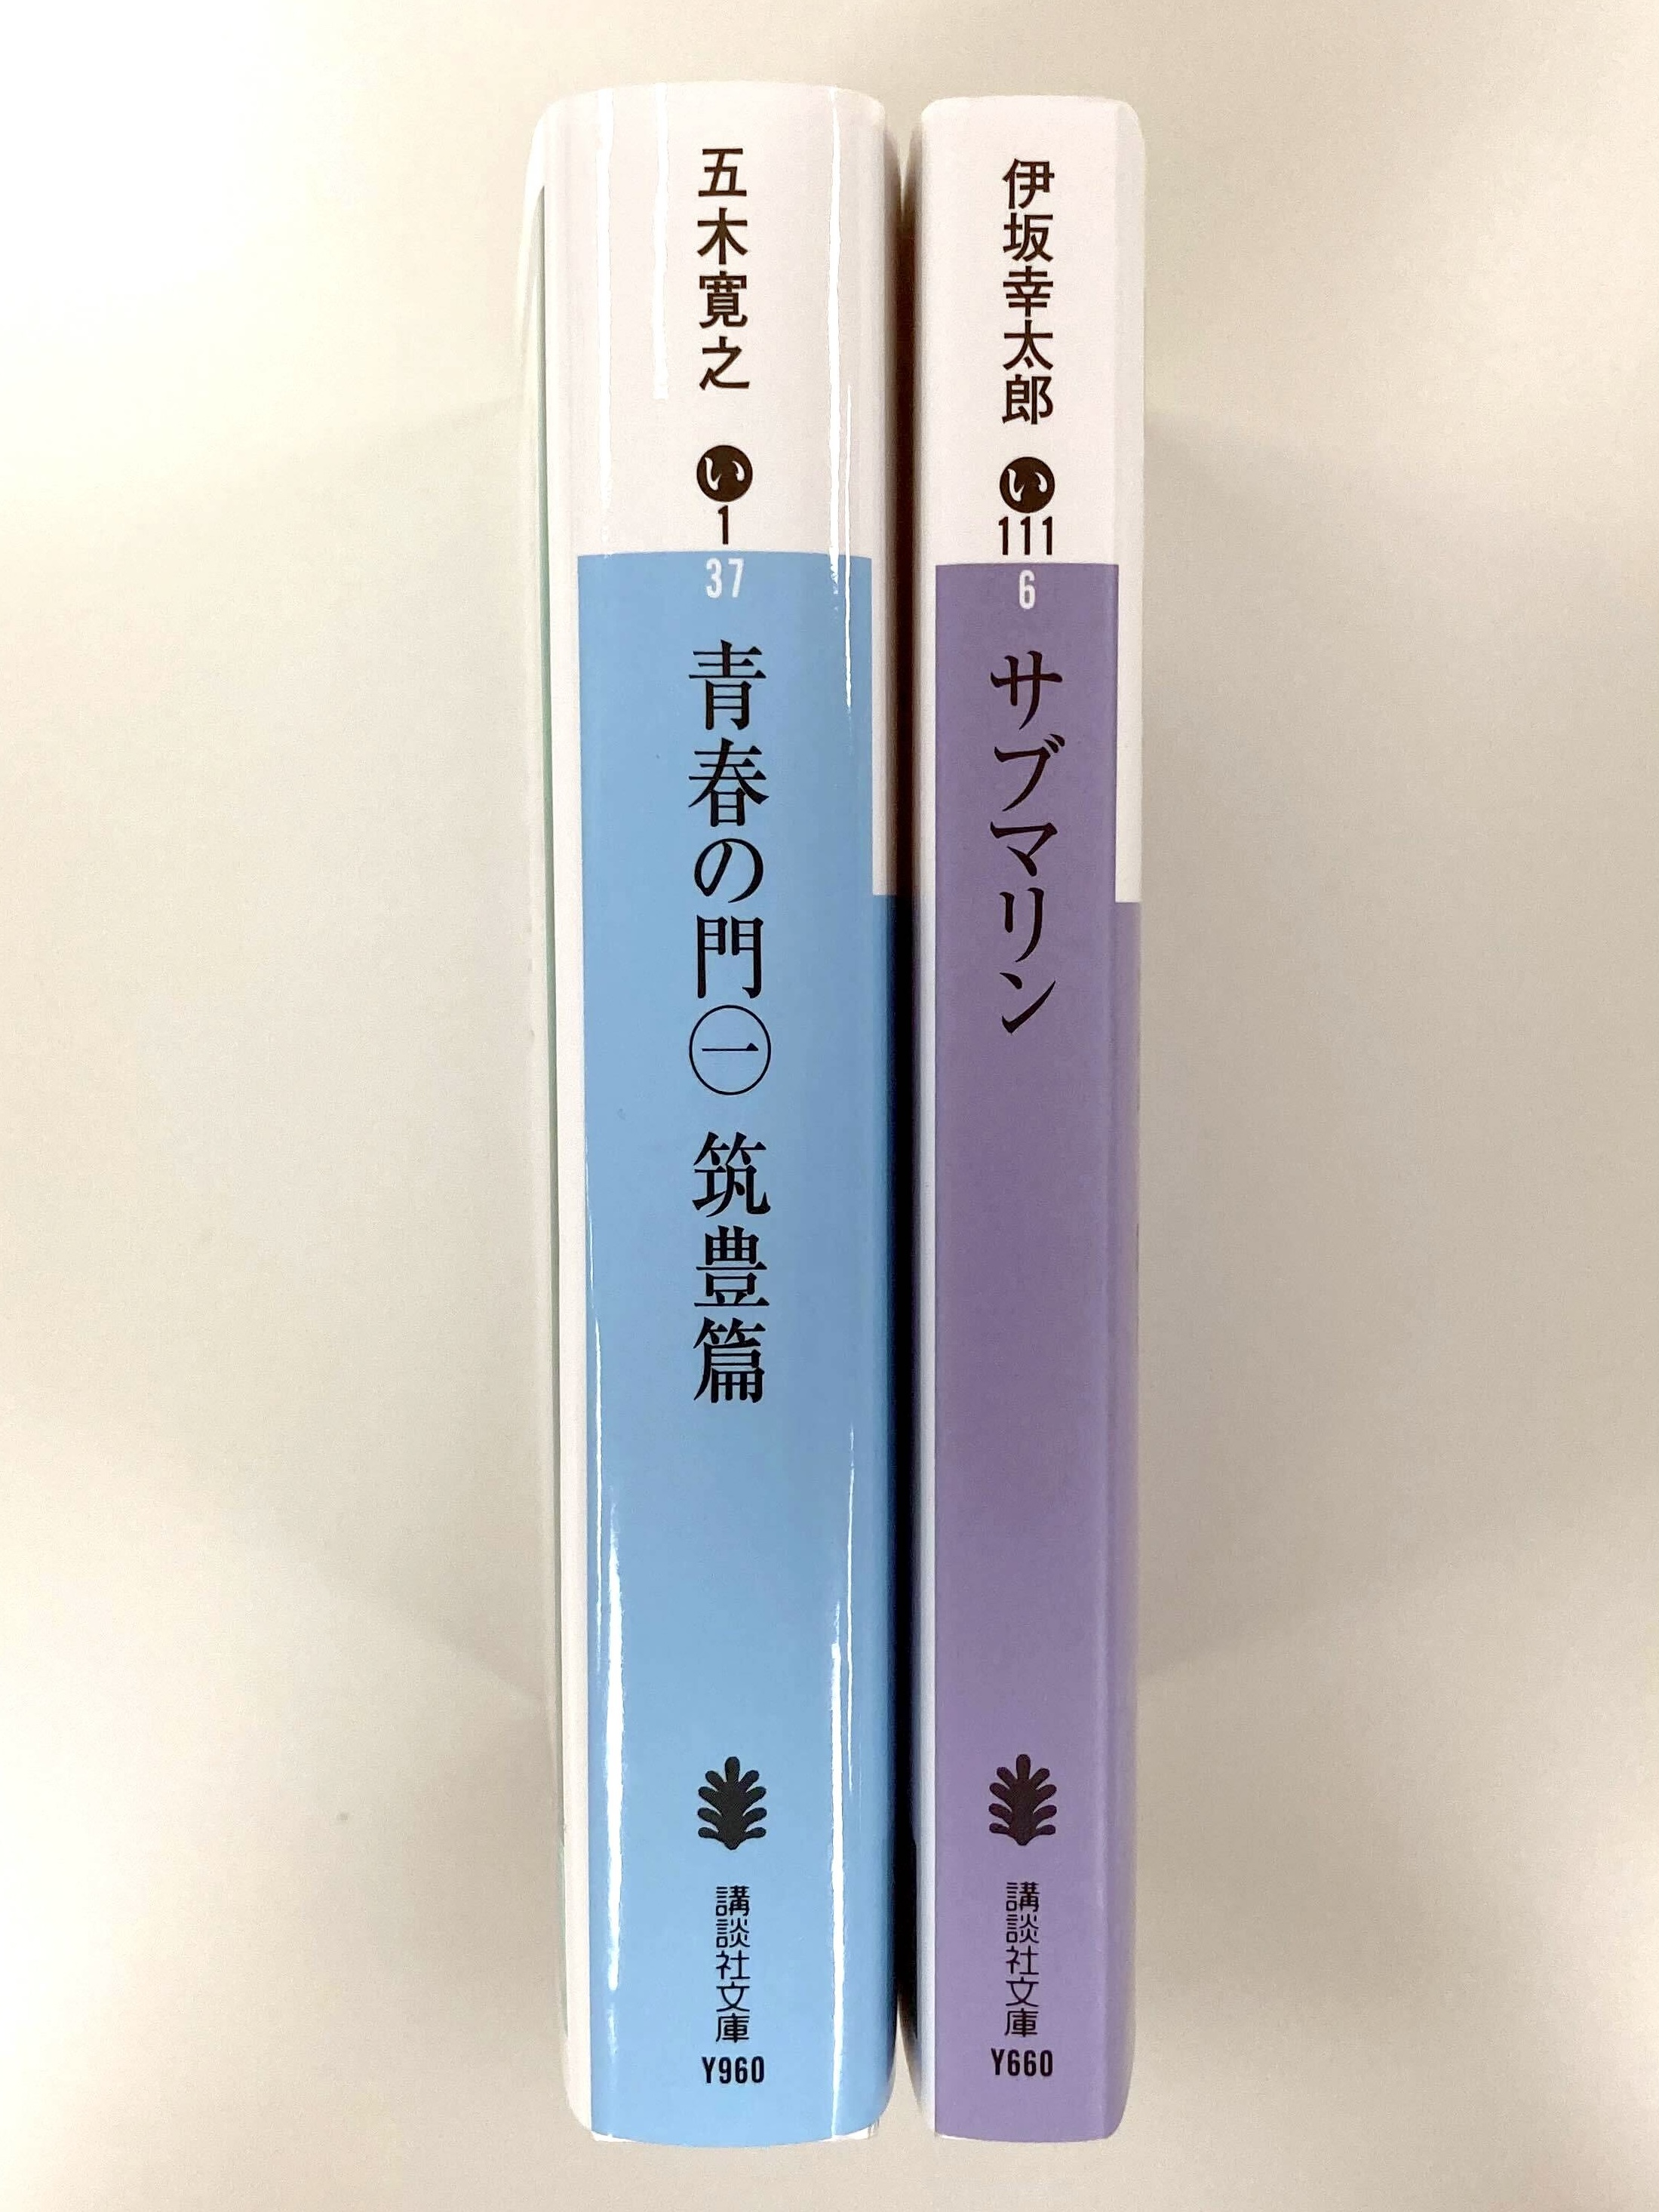book: (542, 71, 924, 2156), (890, 82, 1152, 2146)
